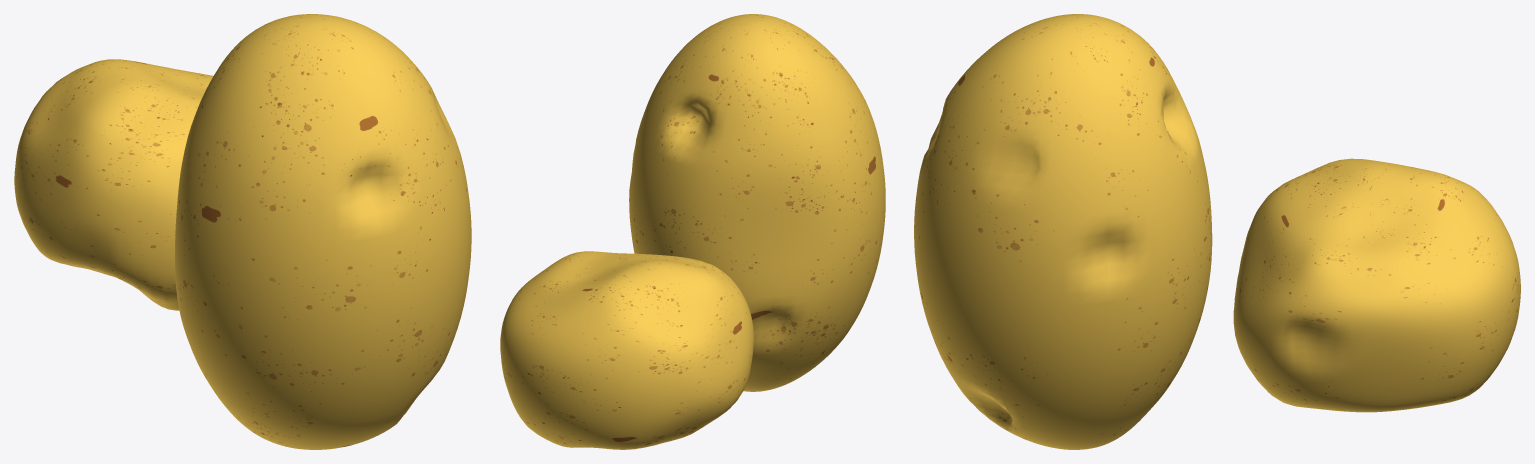
Rendered from asdsad.fbx.
The picture shows the model from 3 angles, left to right: view 1: azimuth 30°, elevation 25°; view 2: azimuth 150°, elevation 25°; view 3: azimuth 270°, elevation 25°; orthographic projection. The views are drawn at different scales.
Visible parts, largest first — view 1: pSphere2, pSphere1; view 2: pSphere2, pSphere1; view 3: pSphere2, pSphere1.
Part boxes in pixels (x1,y1,x2,y2): pSphere2: [175, 14, 471, 449]; pSphere1: [14, 59, 213, 310]; pSphere2: [629, 14, 885, 391]; pSphere1: [500, 251, 754, 449]; pSphere2: [914, 14, 1212, 449]; pSphere1: [1233, 158, 1520, 412].
Size of the model in its own units: 11.68 by 23.68 by 17.97.
1 material, 1 textured.
